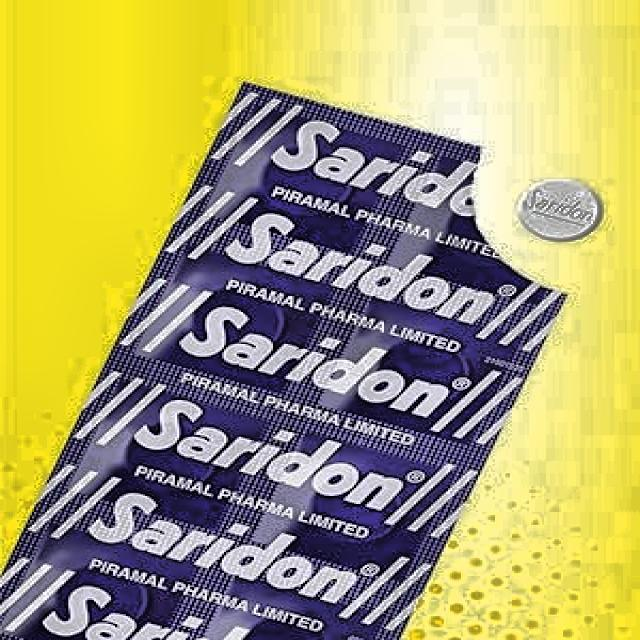Saridon: (2, 90, 559, 637)
